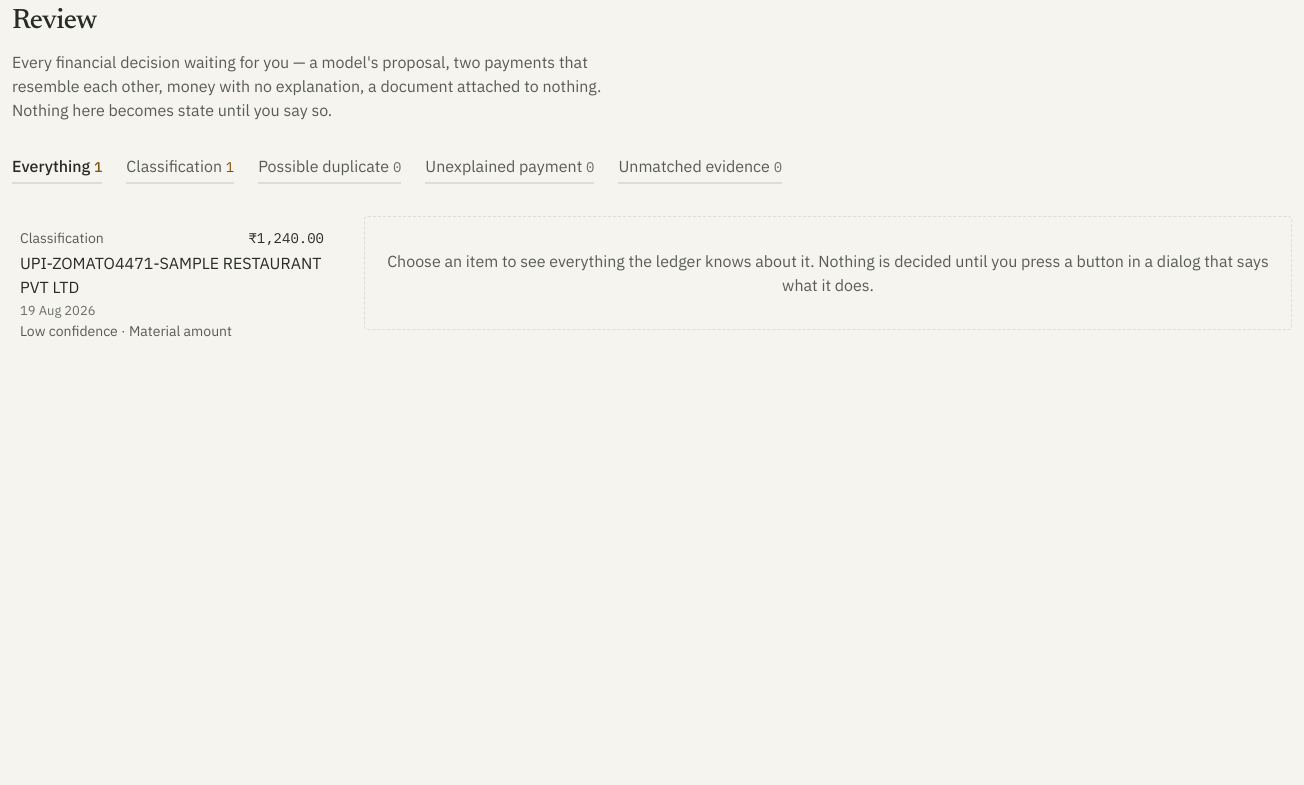
Test case: the review queue › shows the model's proposal, its confidence and what produced it, but never approves it
Expected: the button "Classification 1" is shown, left=126, top=154, right=234, bottom=184
Click the button "UPI-ZOMATO4471" at (62, 238), box left=12, top=216, right=332, bottom=354
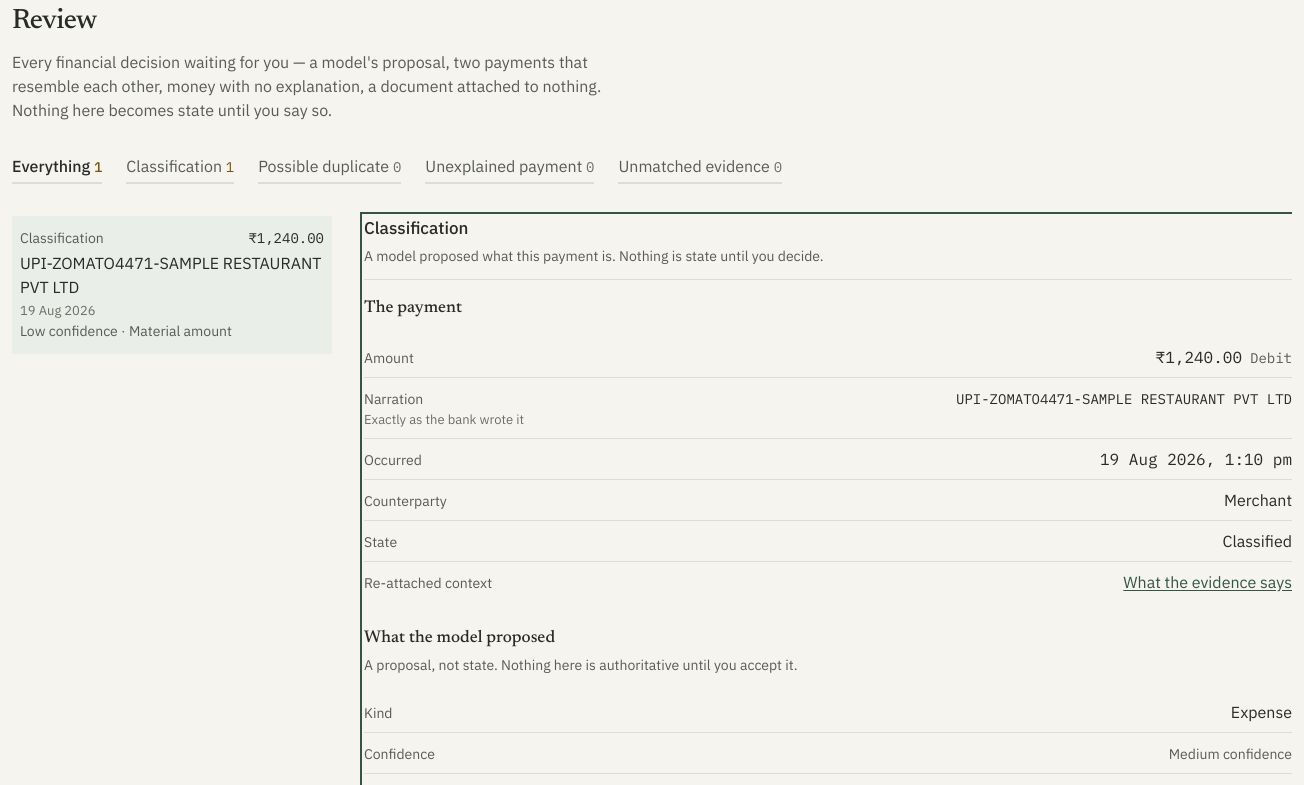
Expected: the heading "What the model proposed" is shown, left=364, top=630, right=555, bottom=646
Expected: the text "Medium confidence" is shown, left=1169, top=745, right=1292, bottom=763
Expected: the text "A proposal, not state" is shown, left=364, top=656, right=798, bottom=674
